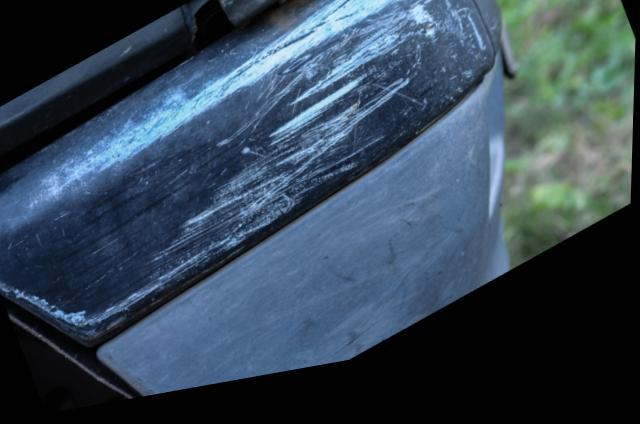scratch: (0, 0, 493, 343)
